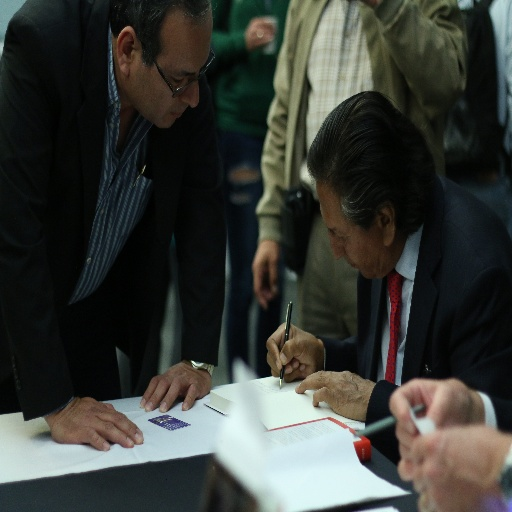hand: (389, 377, 482, 475), (408, 420, 506, 511), (53, 395, 141, 457), (296, 368, 377, 421), (266, 319, 326, 387), (139, 360, 213, 413), (252, 237, 280, 311), (244, 16, 276, 52)
